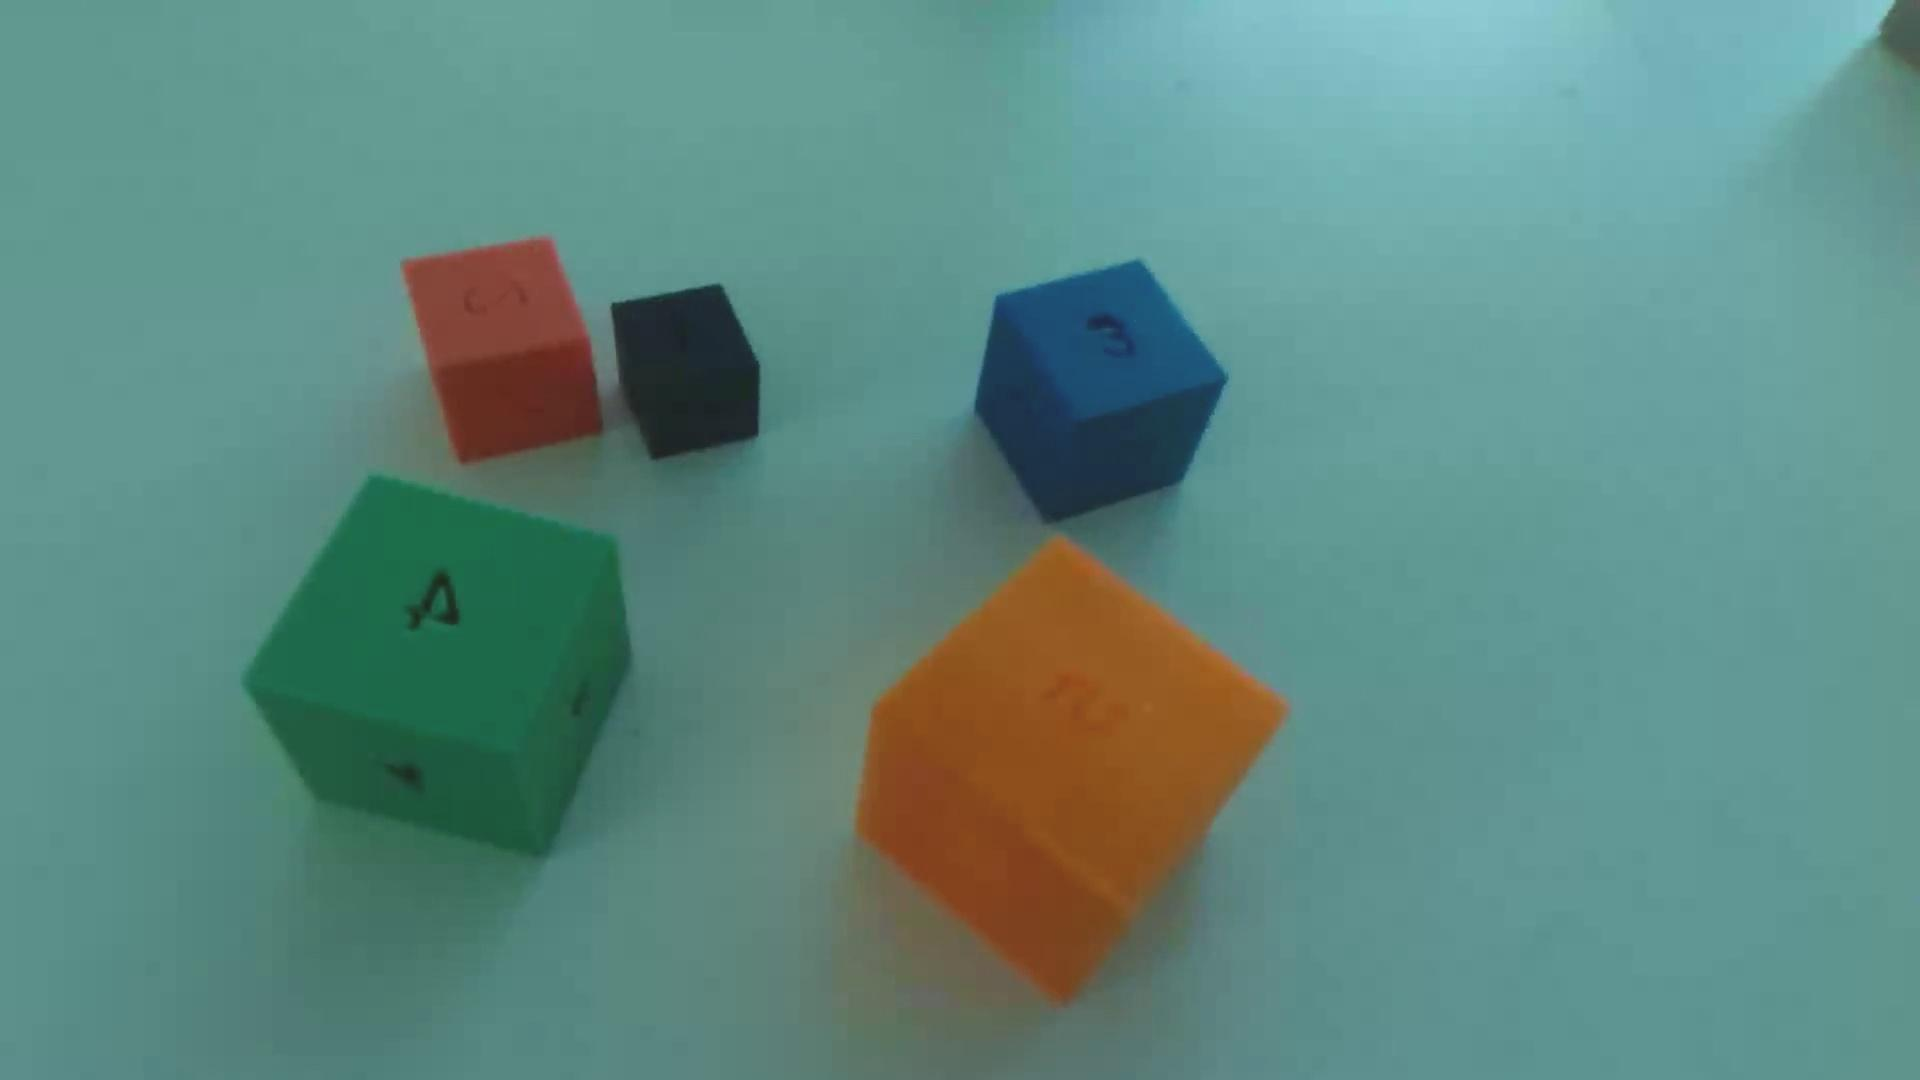black: (611, 285, 761, 460)
blue: (975, 261, 1226, 524)
green: (247, 477, 632, 856)
orange: (857, 541, 1284, 1000)
red: (402, 239, 603, 464)
